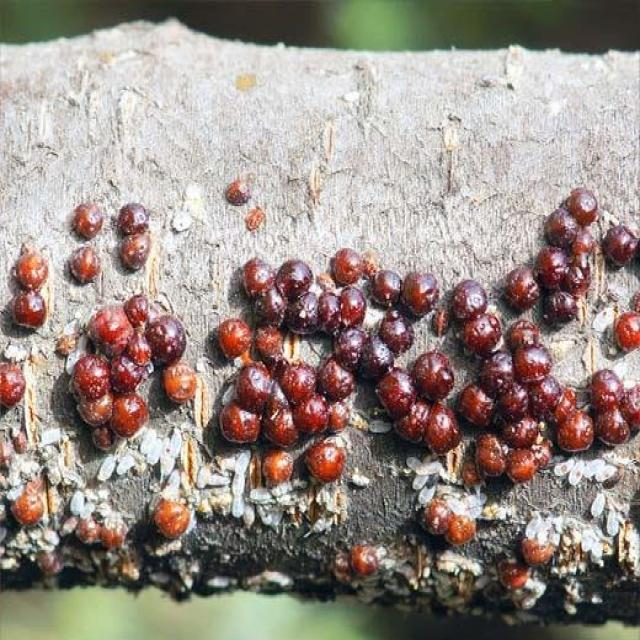Black Scale: (244, 248, 412, 374), (459, 321, 592, 480), (71, 295, 199, 448), (220, 363, 351, 485), (506, 189, 597, 321), (378, 353, 458, 453), (452, 280, 502, 354), (590, 369, 639, 444), (11, 248, 47, 329), (68, 203, 103, 283), (421, 496, 475, 546), (119, 203, 150, 268), (151, 498, 193, 538), (402, 271, 439, 316), (9, 479, 46, 524), (603, 223, 639, 266), (217, 318, 252, 358), (255, 327, 287, 369), (0, 361, 27, 409), (613, 311, 639, 350), (498, 560, 529, 591), (350, 543, 377, 576), (224, 177, 251, 205)
